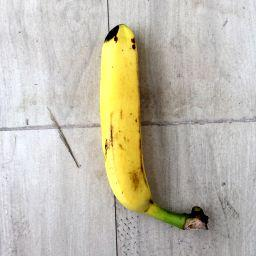banana: (98, 22, 211, 232)
